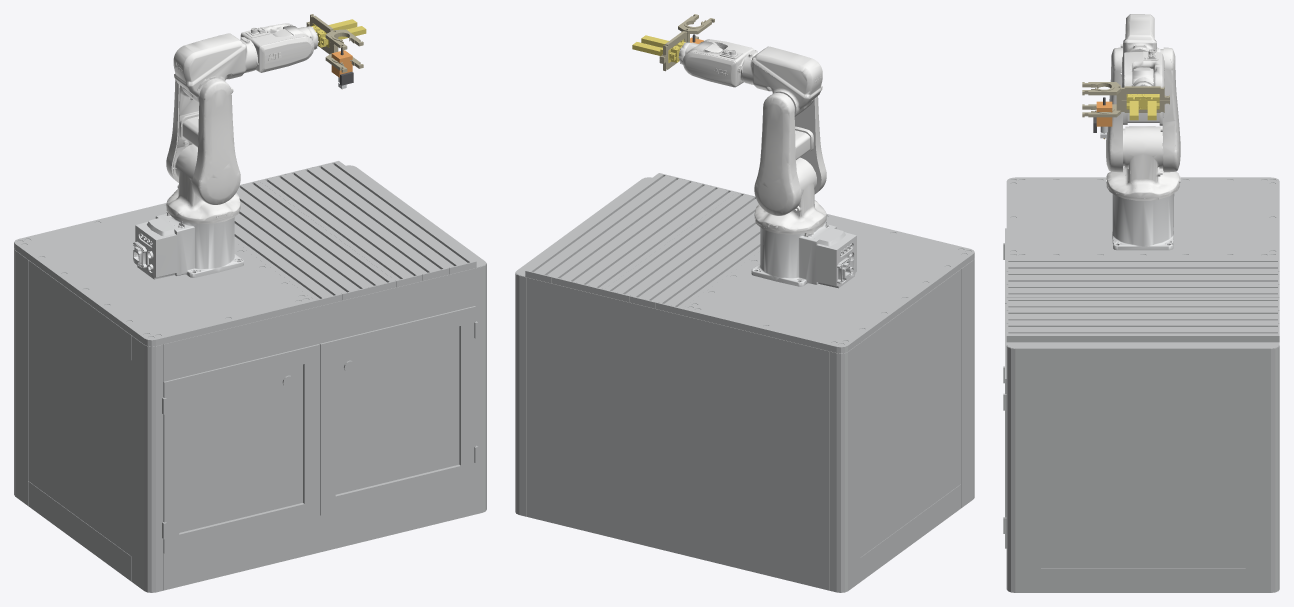
Rendered from irb120_ispis.glb.
3 renders of one model, left to right at view 1: azimuth 30°, elevation 25°; view 2: azimuth 150°, elevation 25°; view 3: azimuth 270°, elevation 25°, orthographic. The views are drawn at different scales.
Parts seen in each view (by area): view 1: l_stol, l_clanak2, l_baza, l_clanak3, l_clanak1, l_clanak4, l_drzac; view 2: l_stol, l_clanak2, l_baza, l_clanak3, l_clanak1, l_clanak4, l_drzac, l_schunk; view 3: l_stol, l_clanak1, l_clanak2, l_baza, l_drzac, l_clanak3, l_clanak4, l_schunk, l_clanak5.
Part boxes in pixels (bbox=[...]): l_stol: bbox=[14, 161, 486, 592]; l_clanak2: bbox=[166, 78, 240, 204]; l_baza: bbox=[133, 211, 243, 279]; l_clanak3: bbox=[173, 33, 258, 102]; l_clanak1: bbox=[166, 144, 240, 224]; l_clanak4: bbox=[240, 23, 314, 72]; l_drzac: bbox=[306, 14, 363, 72]; l_stol: bbox=[515, 173, 974, 592]; l_clanak2: bbox=[754, 92, 826, 215]; l_baza: bbox=[751, 221, 856, 288]; l_clanak3: bbox=[741, 46, 822, 116]; l_clanak1: bbox=[754, 157, 826, 236]; l_clanak4: bbox=[682, 39, 754, 87]; l_drzac: bbox=[659, 14, 714, 71]; l_schunk: bbox=[632, 35, 685, 62]; l_stol: bbox=[1003, 177, 1279, 592]; l_clanak1: bbox=[1106, 126, 1180, 200]; l_clanak2: bbox=[1106, 47, 1180, 172]; l_baza: bbox=[1112, 193, 1174, 250]; l_drzac: bbox=[1082, 82, 1169, 117]; l_clanak3: bbox=[1120, 14, 1159, 74]; l_clanak4: bbox=[1121, 49, 1164, 87]; l_schunk: bbox=[1126, 94, 1159, 120]; l_clanak5: bbox=[1131, 67, 1153, 86].
Size of the model in its own units: 1.14 by 1.51 by 0.81.
